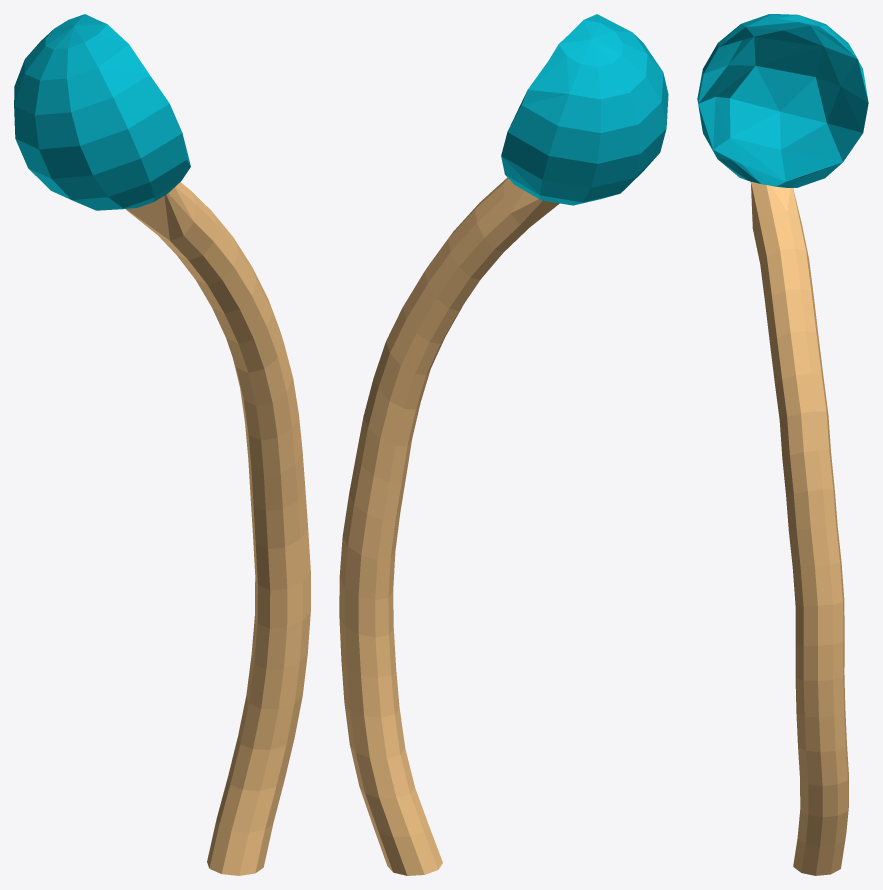
File: ThrowingStick.fbx
3 views of the same model, side by side, from view 1: azimuth 30°, elevation 25°; view 2: azimuth 150°, elevation 25°; view 3: azimuth 270°, elevation 25° (orthographic). The views are drawn at different scales.
Parts seen in each view (by area): view 1: group_561732943, mesh_217257762; view 2: group_561732943, mesh_217257762; view 3: group_561732943, mesh_217257762.
Boxes of the visible parts, x1=… form: group_561732943: x1=125, y1=182, x2=310, y2=875; mesh_217257762: x1=14, y1=14, x2=190, y2=210; group_561732943: x1=339, y1=177, x2=559, y2=875; mesh_217257762: x1=501, y1=14, x2=668, y2=205; group_561732943: x1=750, y1=182, x2=848, y2=875; mesh_217257762: x1=697, y1=14, x2=868, y2=187.
Size of the model in its own units: 24.16 by 68.59 by 13.61.
